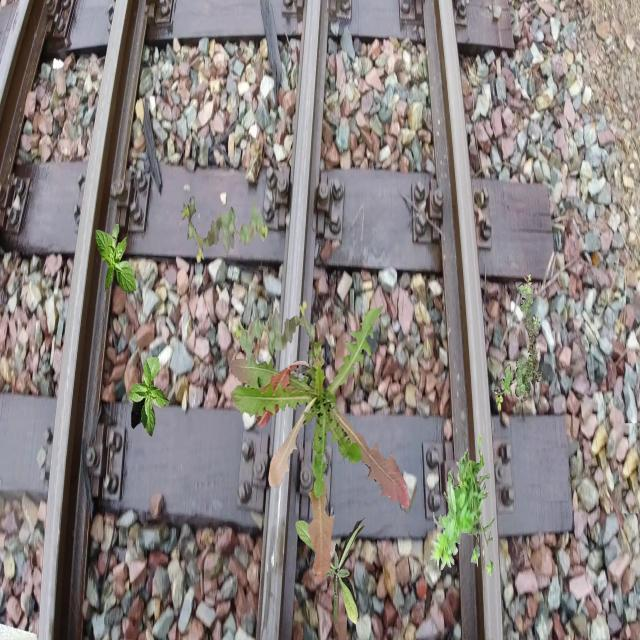Plant: (229, 306, 409, 584), (430, 434, 494, 578), (295, 518, 367, 626), (494, 273, 542, 411), (182, 195, 268, 264), (235, 300, 322, 368), (129, 357, 171, 437), (95, 224, 136, 295)
